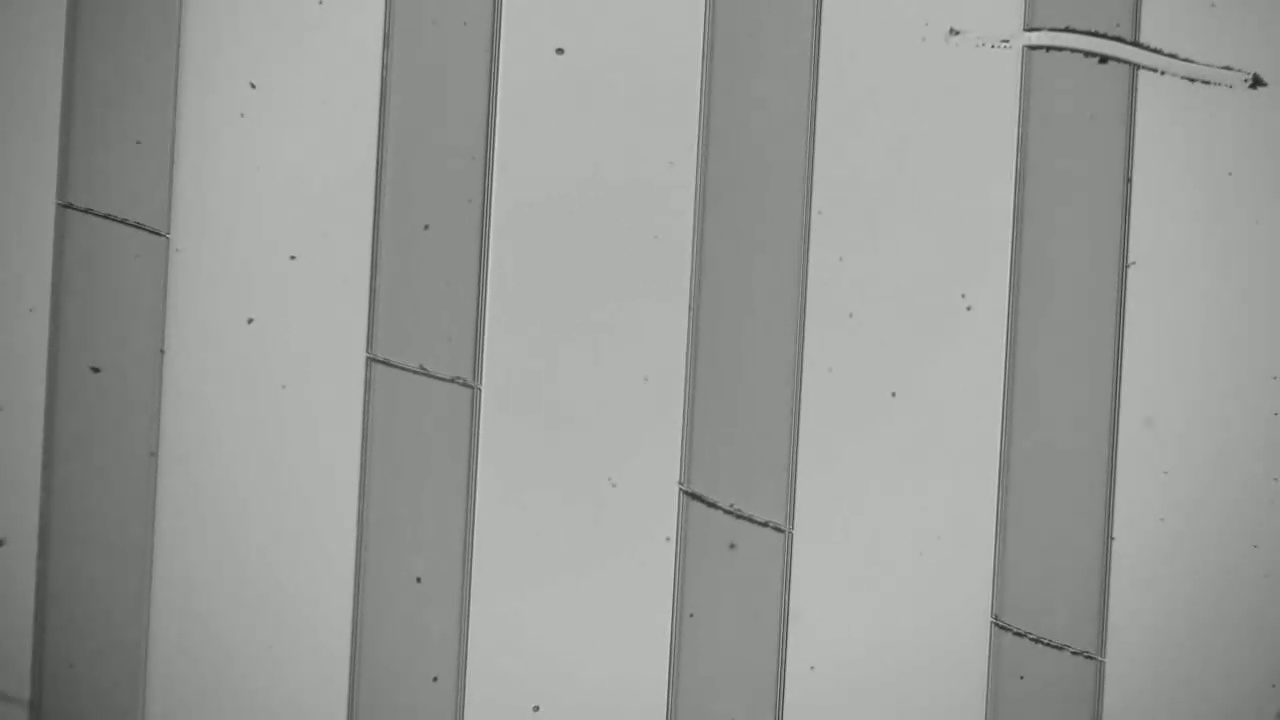Short_circuit: (997, 15, 1163, 79)
scratch: (67, 201, 166, 243), (376, 349, 466, 395), (1001, 619, 1091, 663), (695, 494, 780, 540)
